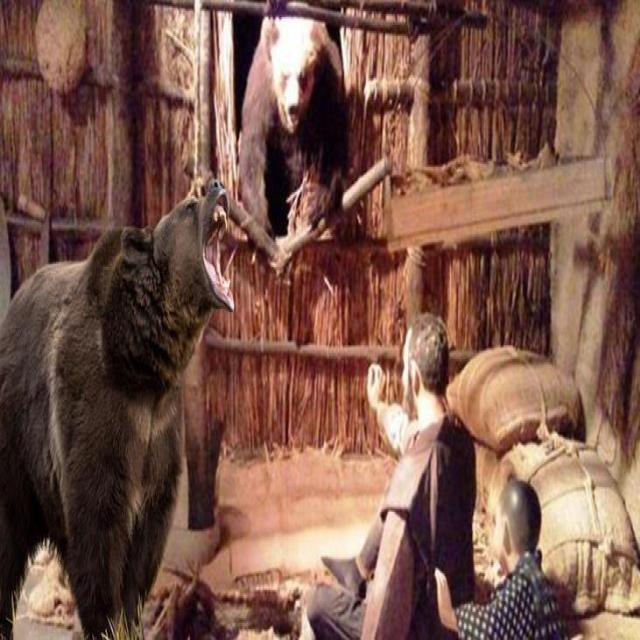Bear: (0, 183, 235, 640), (235, 14, 347, 262)
